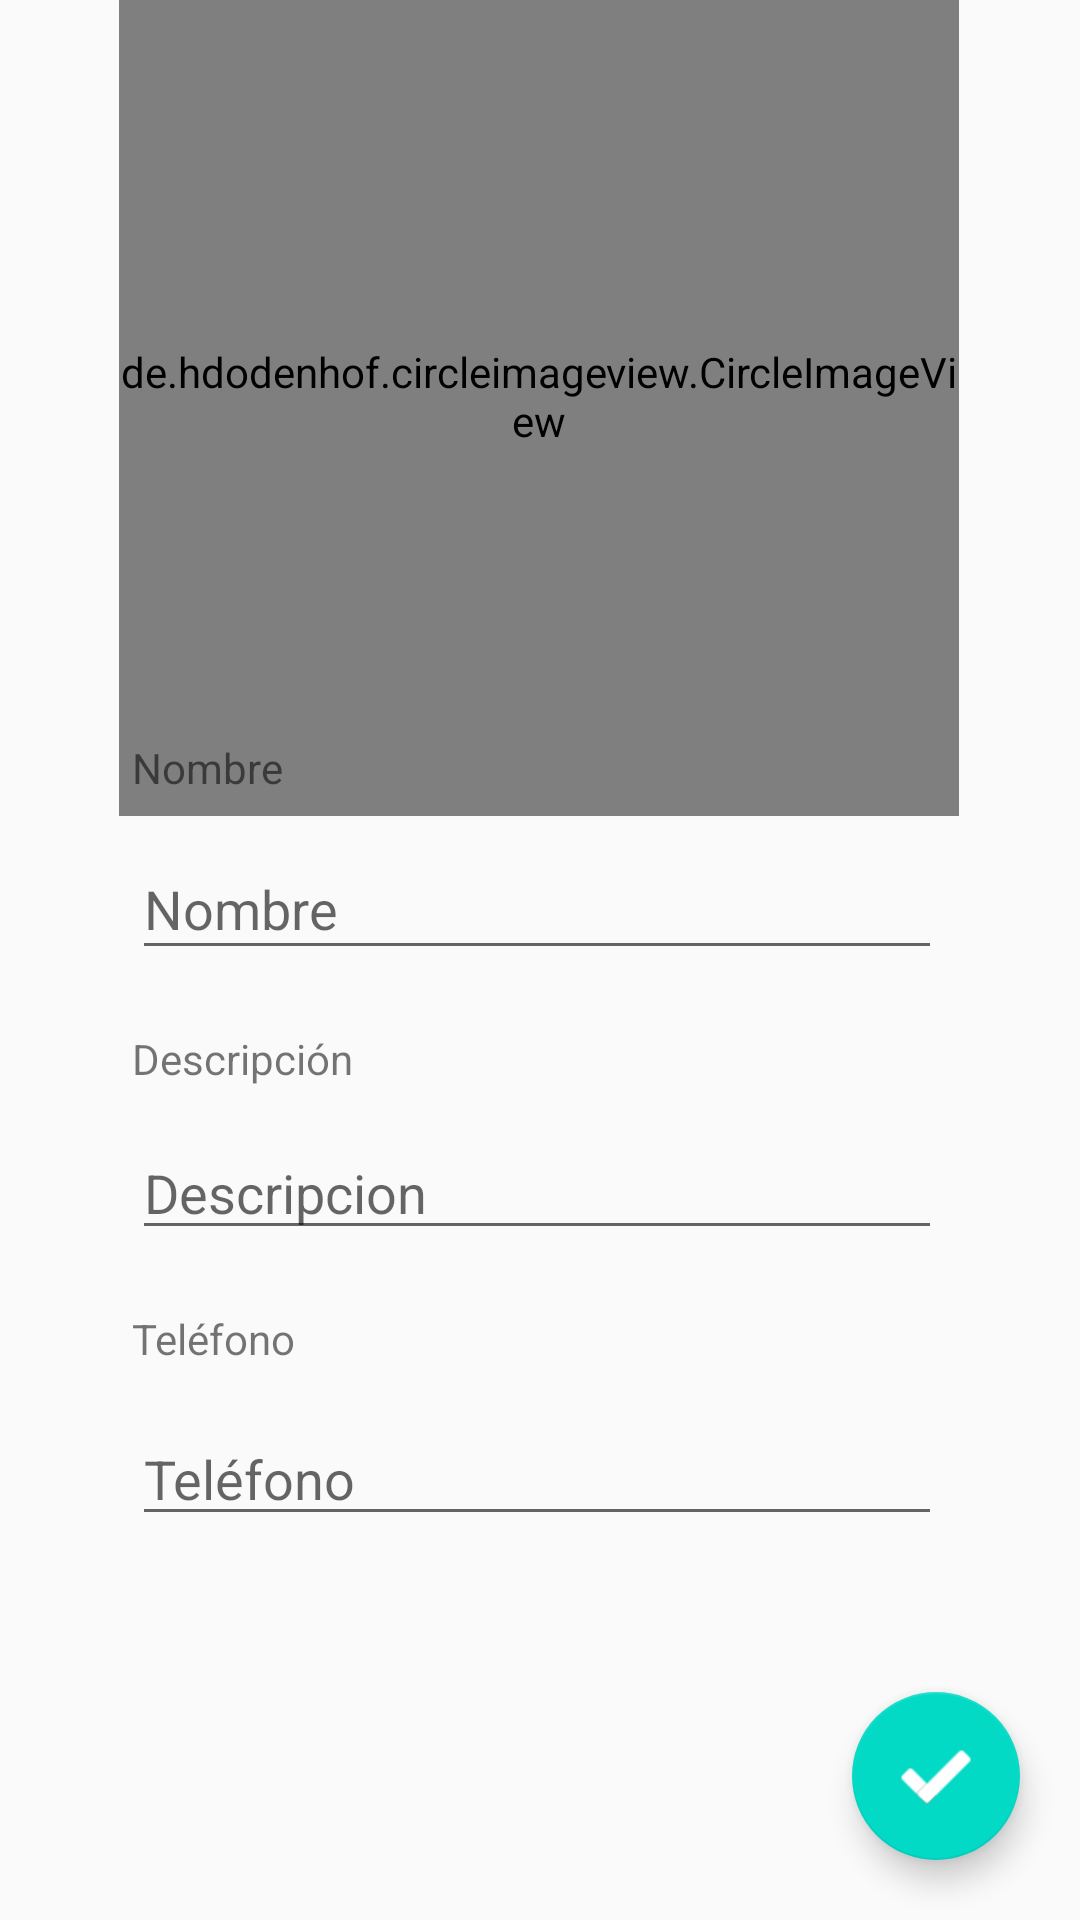

Where icons sit on this 1080px x 1920px app screen, as bbox=(x1, y1, x2, y2):
check: bbox=(852, 1692, 1020, 1860)
